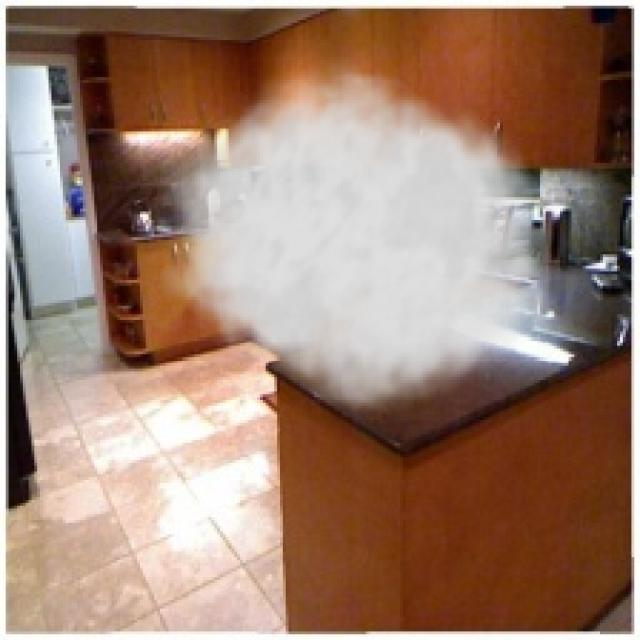smoke: (160, 54, 566, 420)
